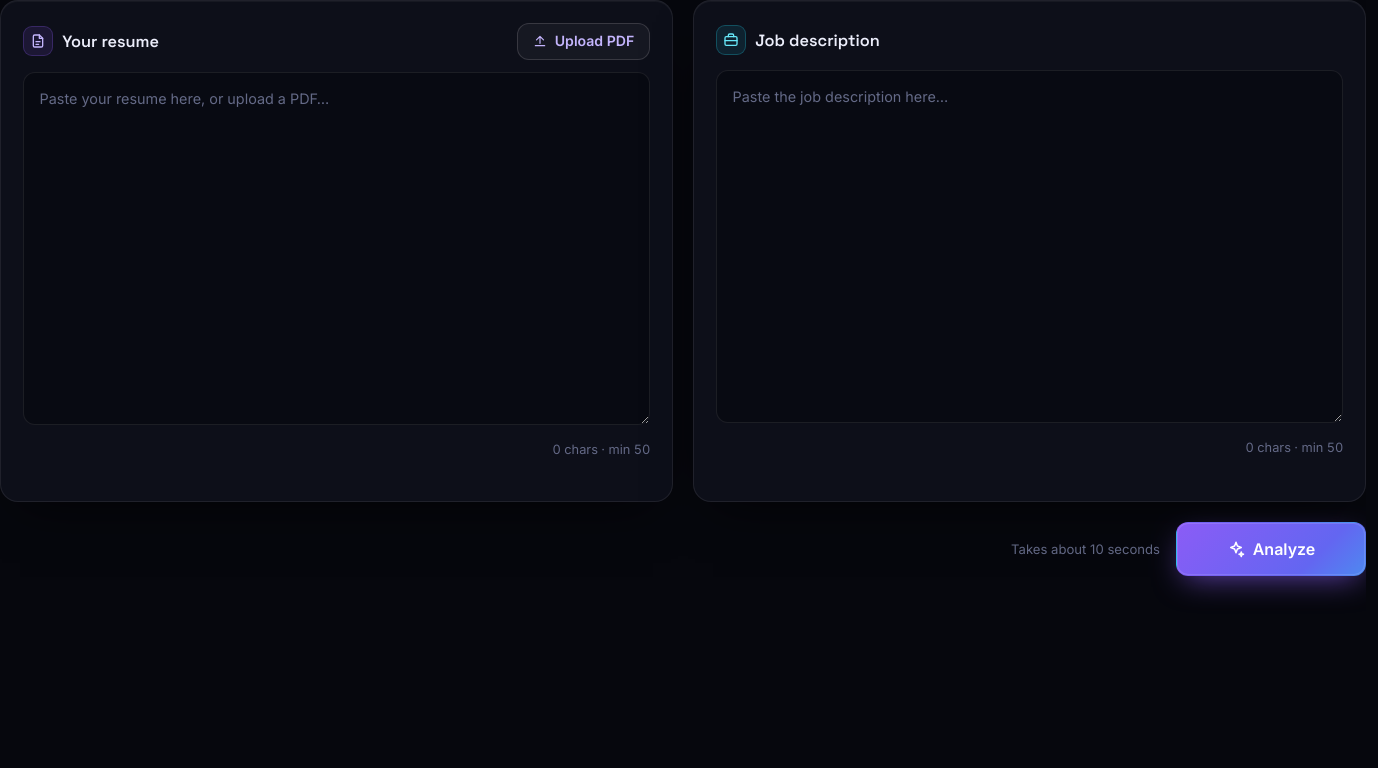
Test: AnalyzeForm validation › rejects text shorter than the minimum length
The width and height of the screenshot is (1378, 768).
Type "Full-stack developer with 4 years of React, TypeScript and Python FastAPI experience." into the text box labelled "Your resume" at (336, 248), box [23, 72, 650, 425]
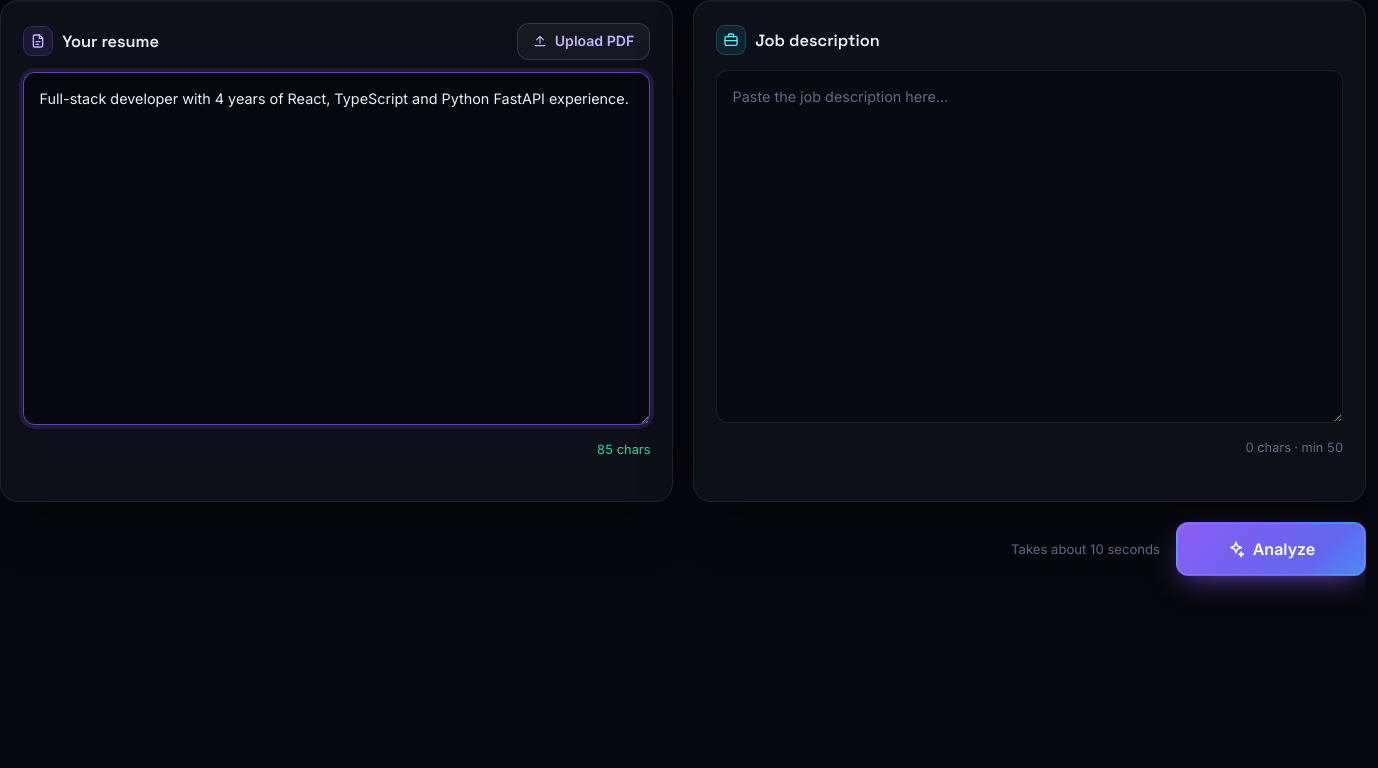
Type "Too short" into the text box labelled "Job description" at (1030, 246), box [716, 70, 1343, 423]
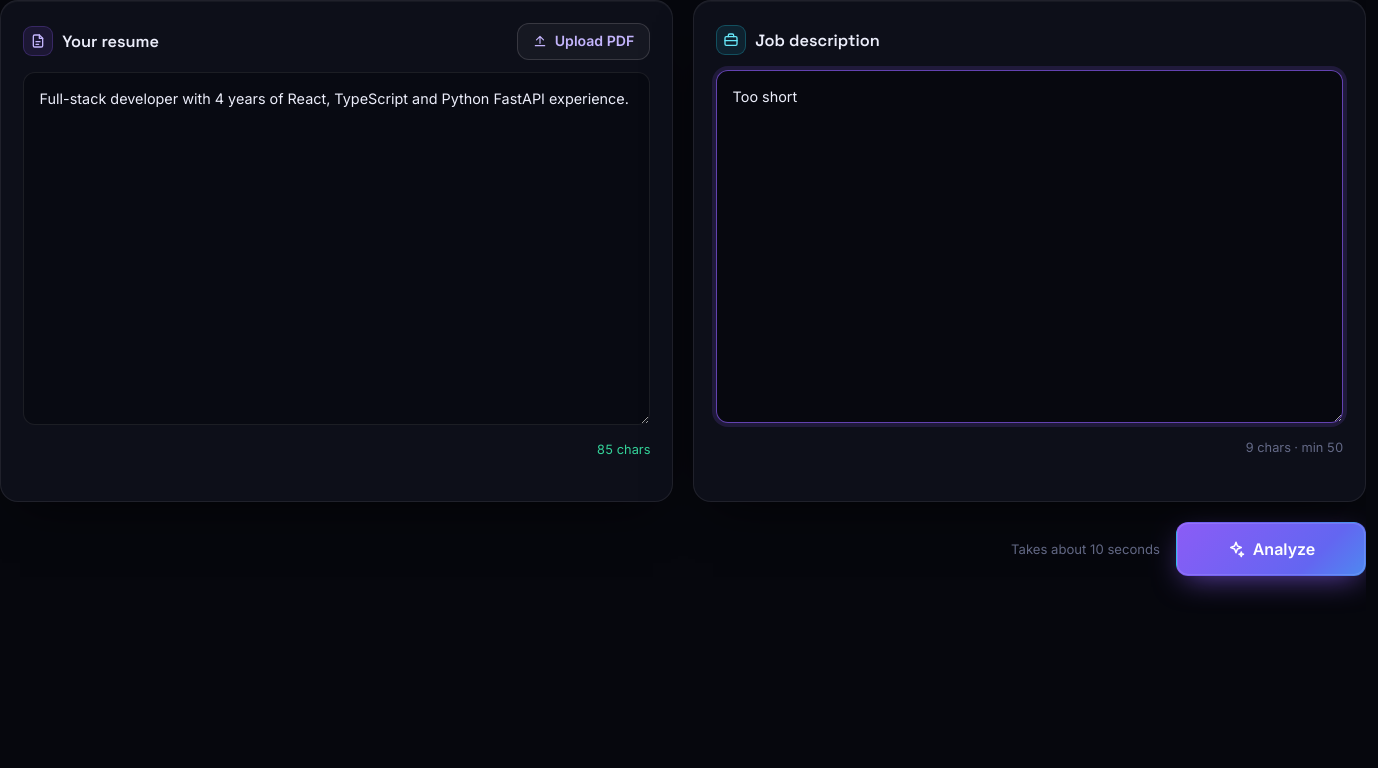
Click the button "Analyze" at (1271, 549), box [1176, 522, 1366, 576]
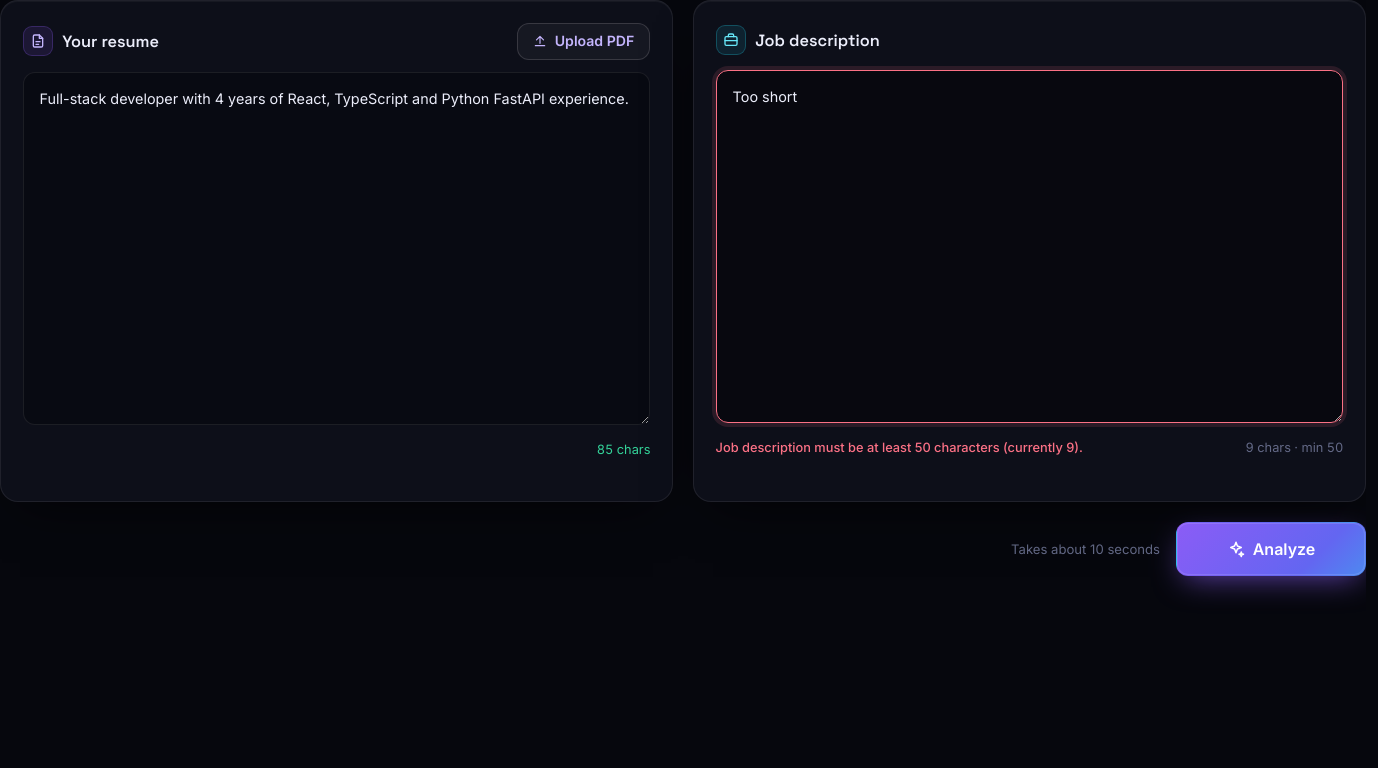
Check: the text "Job description must be at least 50 characters" is shown, box [716, 440, 1083, 455]
